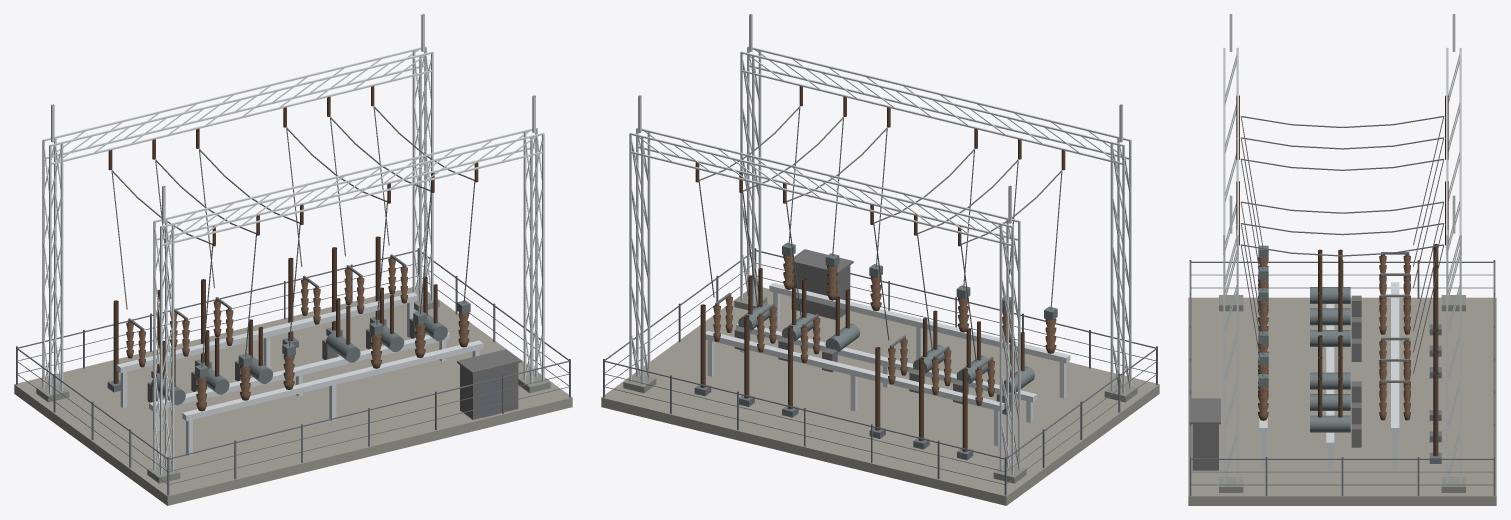
The model's file is mashup-switchyard-top-prebuilt_close.fbx.
The picture shows the model from 3 angles, left to right: view 1: azimuth 30°, elevation 25°; view 2: azimuth 150°, elevation 25°; view 3: azimuth 270°, elevation 25°; orthographic projection.
Visible parts, largest first — view 1: a1056/0/mashup-switchyard-top-prebuilt_close; view 2: a1056/0/mashup-switchyard-top-prebuilt_close; view 3: a1056/0/mashup-switchyard-top-prebuilt_close.
Boxes of the visible parts, left/top/right/bottom form: a1056/0/mashup-switchyard-top-prebuilt_close: left=14, top=14, right=572, bottom=505; a1056/0/mashup-switchyard-top-prebuilt_close: left=601, top=14, right=1159, bottom=505; a1056/0/mashup-switchyard-top-prebuilt_close: left=1188, top=14, right=1496, bottom=505.
Bounding box in the file's own units: 23.2 × 16.4 × 15.2.
